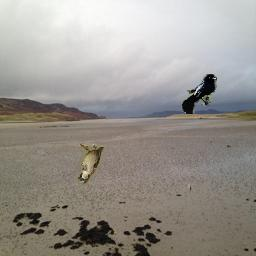Crow: (182, 74, 217, 114)
Sparrow: (78, 144, 104, 184)
